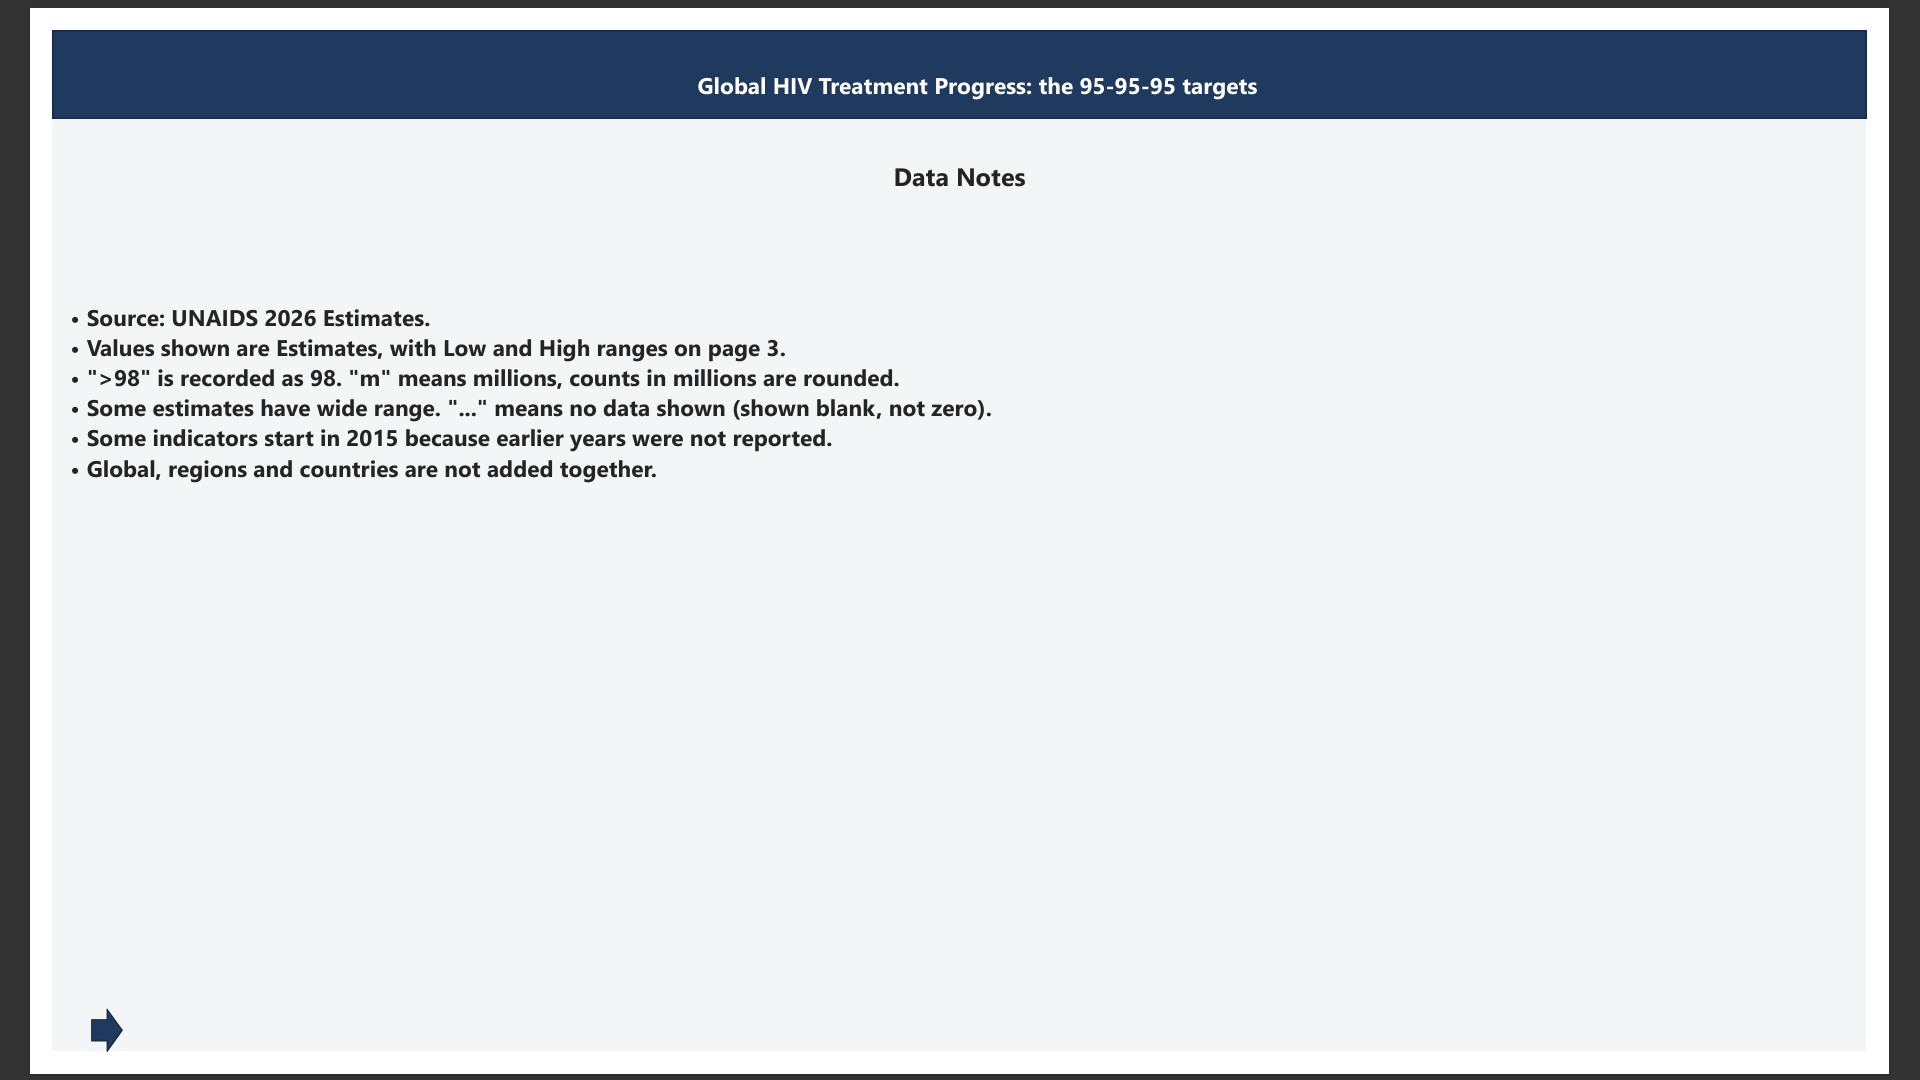

What the dashboard file says about the page in this screenshot:
{"tool":"powerbi","page":{"name":"Data notes","canvas":[1920,1080],"ordinal":3},"visuals":[{"type":"shape","box":[0,0,1920,92.5],"z":0},{"type":"textbox","box":[345.8,41.2,1265.9,144.1],"z":1000},{"type":"shape","box":[41.2,1035.3,32.9,45.3],"z":2000},{"type":"shape","box":[41.2,1034.7,32.9,45.3],"z":3000},{"type":"textbox","box":[0,247.5,1920,377.5],"z":4000},{"type":"textbox","box":[0,135,1920,112.5],"z":4001}]}

Visuals, with their boxes in screenshot pixels (x1, y1, x2, y2), scaled from the page's 1920x1080 canvas onto the 1920x1080 screenshot:
shape: <region>0, 0, 1919, 92</region>
textbox: <region>346, 41, 1612, 185</region>
shape: <region>41, 1035, 74, 1079</region>
shape: <region>41, 1035, 74, 1079</region>
textbox: <region>0, 248, 1919, 625</region>
textbox: <region>0, 135, 1919, 248</region>
